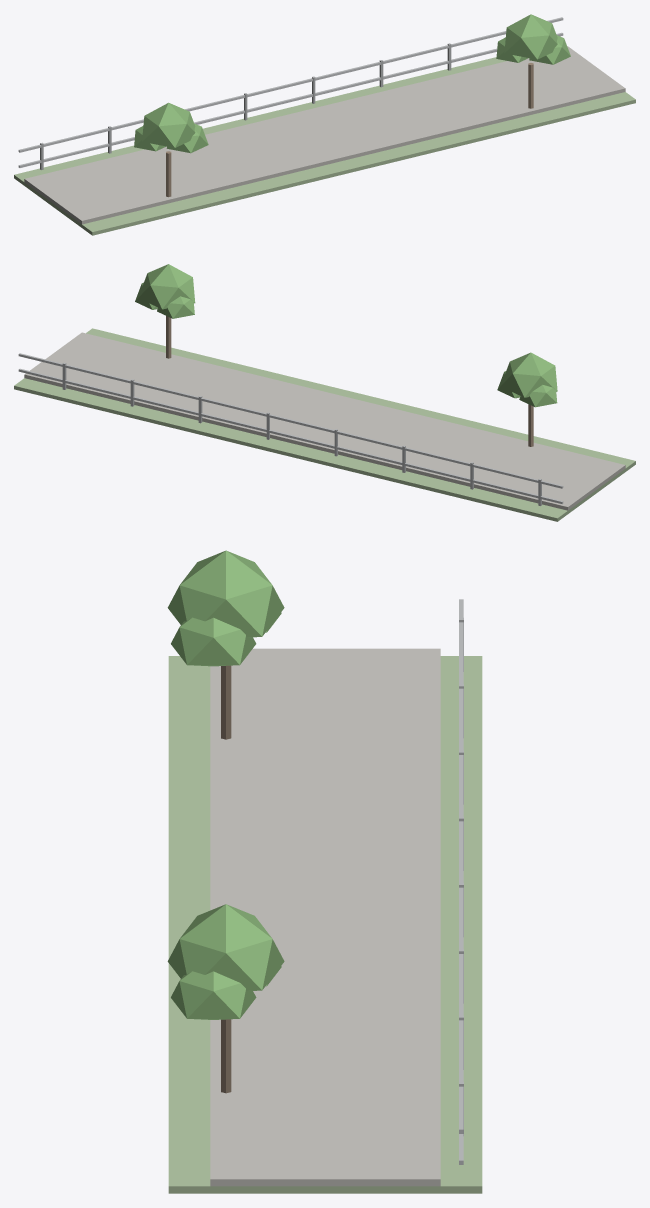
File: 16_parks_greenery-07.glb
3 renders of one model, top to bottom at view 1: azimuth 30°, elevation 25°; view 2: azimuth 150°, elevation 25°; view 3: azimuth 270°, elevation 25°, orthographic. The views are drawn at different scales.
Size of the model in its own units: 24 by 4.24 by 6.02.
